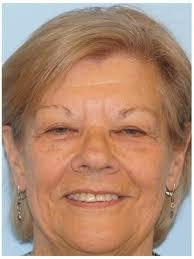normalEye: (33, 104, 163, 144)
normalMouth: (60, 188, 124, 213)
